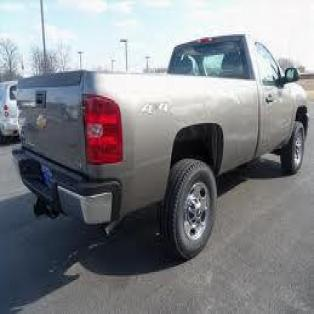Auto: (14, 32, 312, 259)
